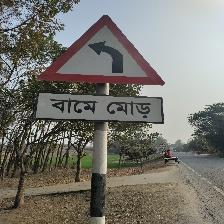Left-Turn: (35, 13, 167, 122)
